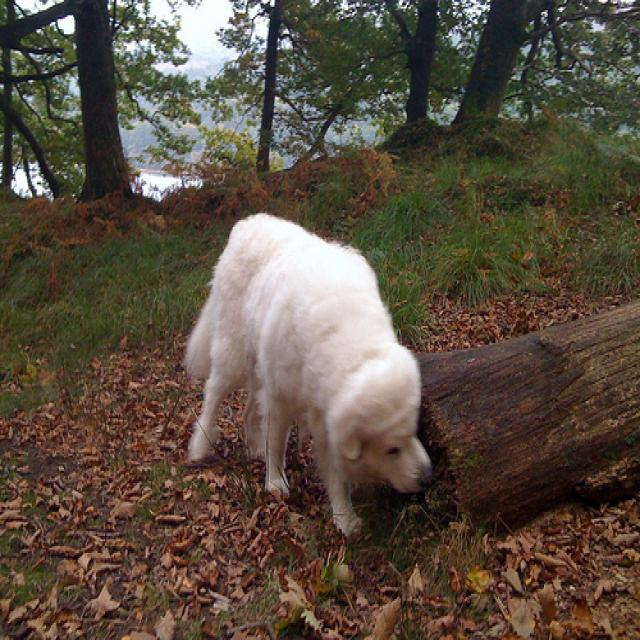dog-great_pyrenees: (179, 212, 438, 544)
